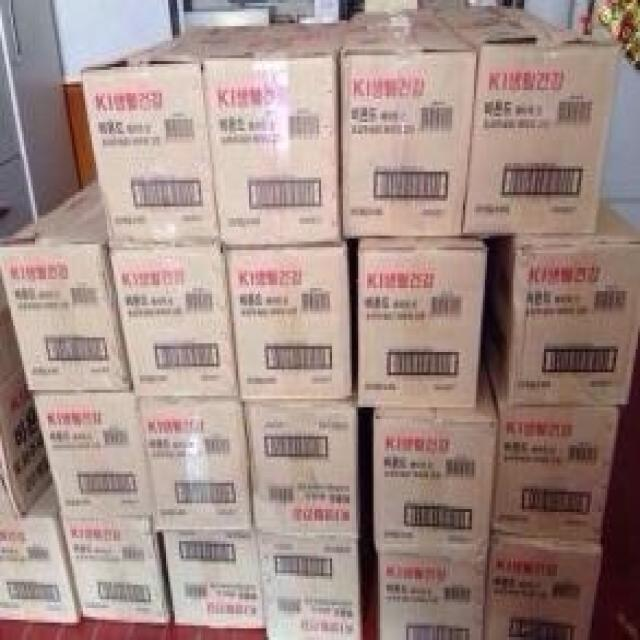box: (435, 6, 620, 236), (83, 26, 251, 244), (341, 6, 478, 239), (201, 23, 345, 244), (496, 198, 640, 407), (0, 177, 133, 393), (374, 367, 498, 553), (358, 239, 487, 410), (223, 241, 352, 401), (109, 241, 238, 396), (494, 404, 620, 544), (31, 390, 155, 518), (135, 399, 253, 532), (242, 401, 358, 535), (485, 532, 603, 640), (0, 477, 85, 625), (63, 515, 170, 623), (256, 532, 360, 640), (162, 532, 264, 628), (378, 553, 485, 640), (0, 367, 52, 518)
